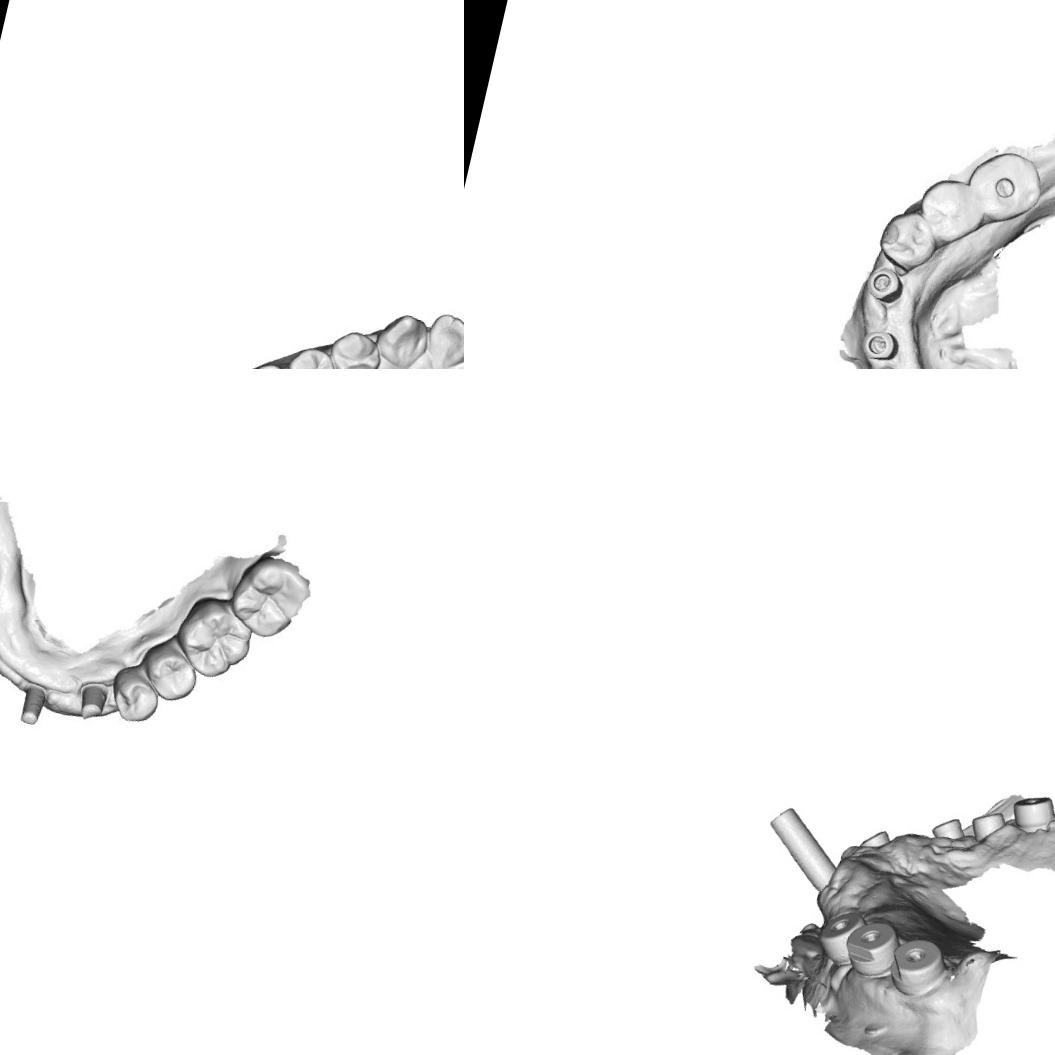abutment: (16, 679, 55, 734), (70, 680, 112, 726)
canine: (369, 305, 434, 369)
implant: (755, 798, 850, 896), (882, 932, 952, 1004), (837, 912, 905, 986), (811, 905, 868, 973), (1005, 788, 1055, 837), (866, 260, 909, 304), (968, 806, 1011, 846), (862, 328, 898, 366), (929, 812, 966, 848), (857, 822, 894, 856)
incisor: (420, 307, 464, 369)
molar: (958, 141, 1052, 232), (912, 168, 997, 252), (232, 555, 311, 636), (180, 602, 248, 674)
premolar: (873, 206, 943, 276), (145, 648, 199, 703), (320, 325, 386, 369), (113, 670, 162, 724), (280, 342, 343, 369)
